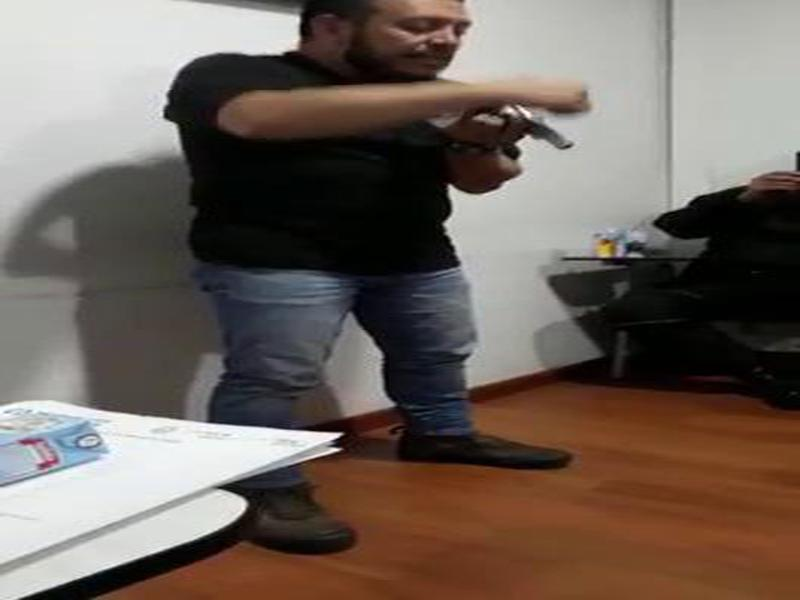Revolver: (438, 91, 594, 184)
